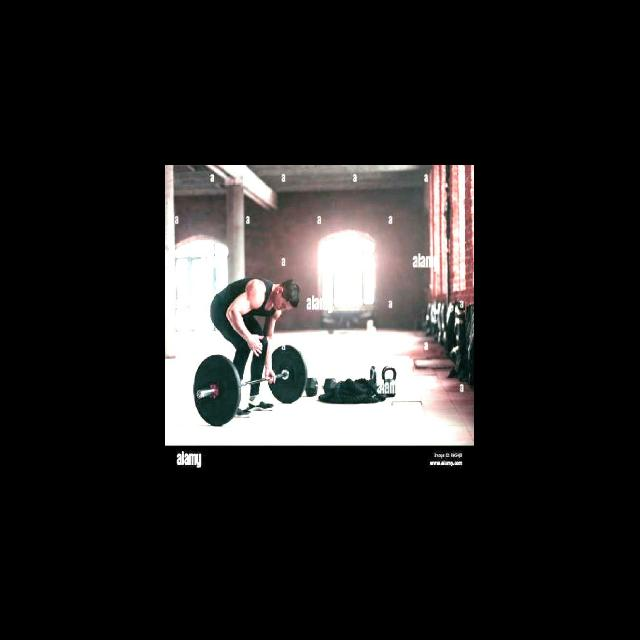barbell: (191, 353, 240, 428)
